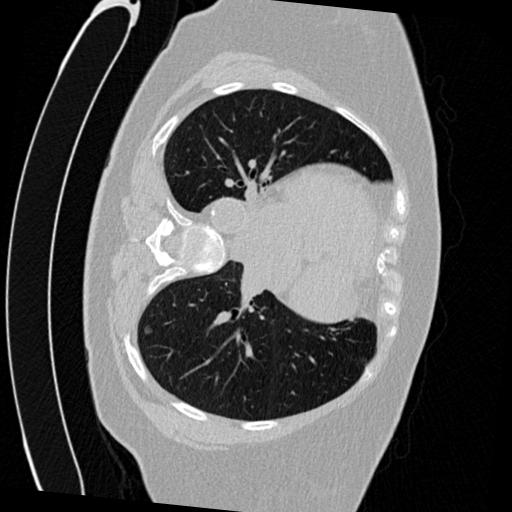nodule: (143, 327, 155, 339)
